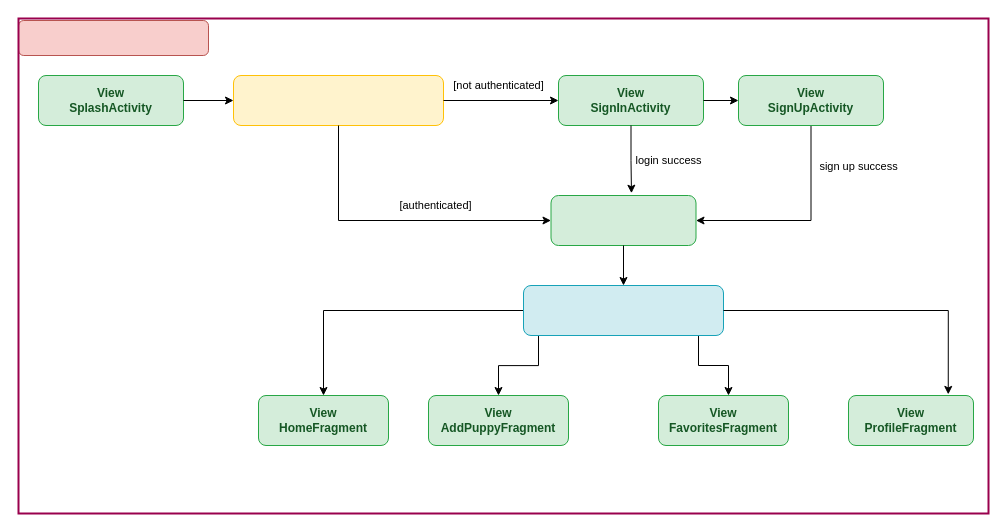
This 1006x531 diagram has some shape labels left out. The shapes that lost their labels are listed below. From the top down, each one's box as (x1, y1, x2, y2) in pixels, then its label:
(18, 20, 208, 56): Avvio e Navigazione
(232, 74, 444, 126): Repository AuthRepository (FirebaseAuth)
(550, 194, 696, 246): View HomeActivity
(522, 284, 724, 336): Layout BottomNavigationView
